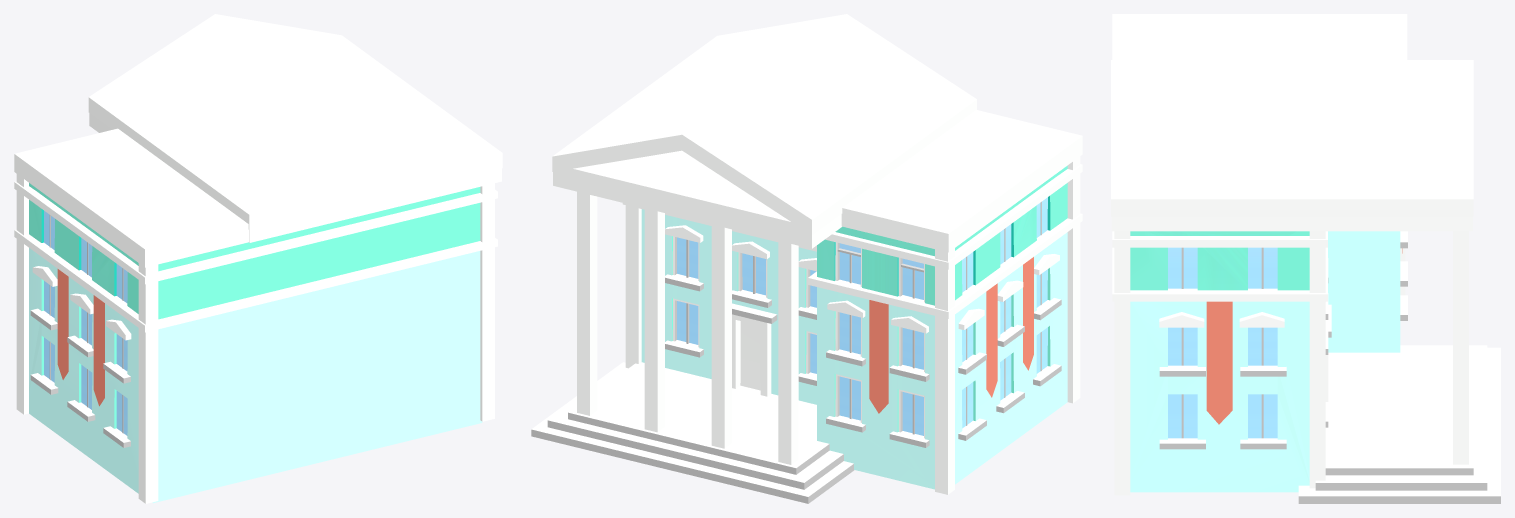
File: art.006.glb
The picture shows the model from 3 angles, left to right: view 1: azimuth 30°, elevation 25°; view 2: azimuth 150°, elevation 25°; view 3: azimuth 270°, elevation 25°; orthographic projection. The views are drawn at different scales.
Visible parts, largest first — view 1: art.006(Clone); view 2: art.006(Clone); view 3: art.006(Clone).
Part boxes in pixels (box(x1,y1,x2,y2)): art.006(Clone): box(14, 14, 502, 503); art.006(Clone): box(531, 14, 1082, 503); art.006(Clone): box(1111, 14, 1500, 503).
Size of the model in its own units: 12.04 by 10.09 by 9.85.
Materials: 1 (1 with a texture image).
